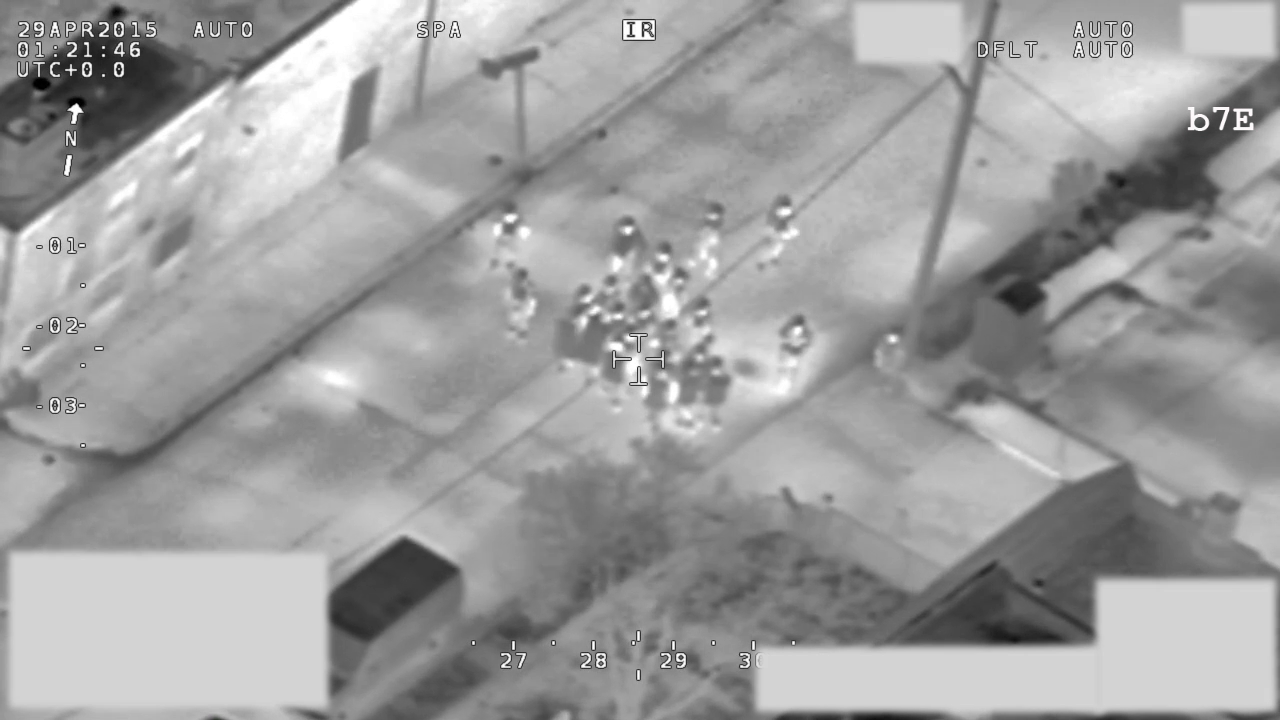vehicle: (330, 532, 468, 719)
